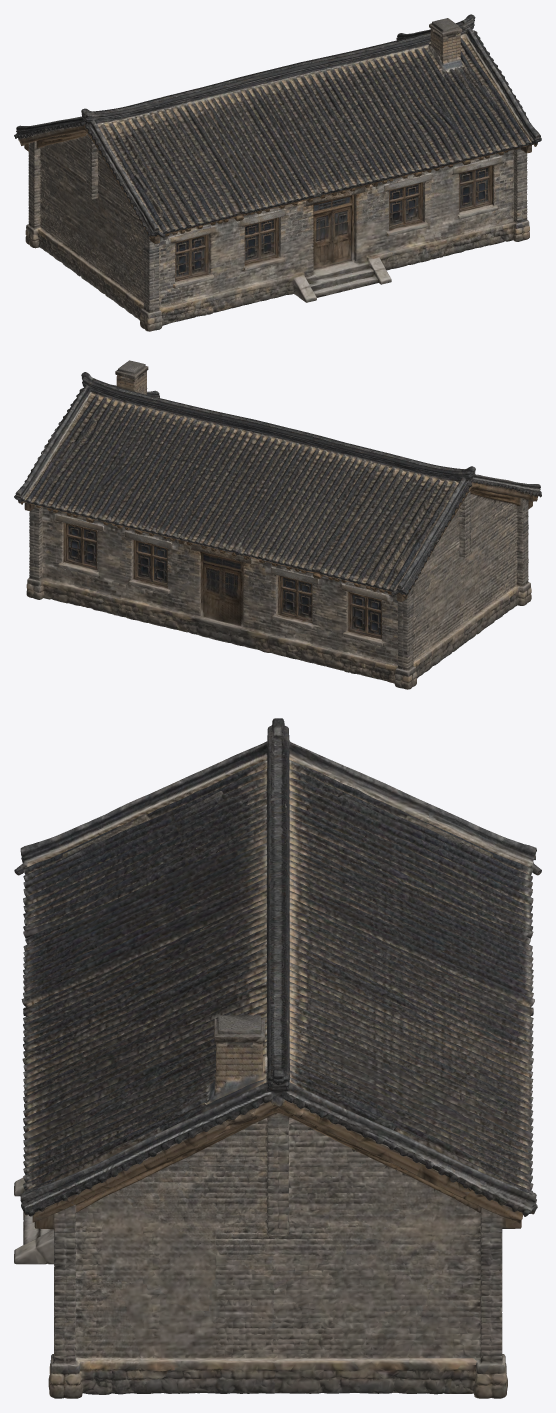
The model's file is bq_house_stone.hd.glb.
3 views of the same model, one above another, from view 1: azimuth 30°, elevation 25°; view 2: azimuth 150°, elevation 25°; view 3: azimuth 270°, elevation 25° (orthographic). The views are drawn at different scales.
Bounding box in the file's own units: 1.9 × 0.8579 × 1.19.
1 material, 1 textured.
